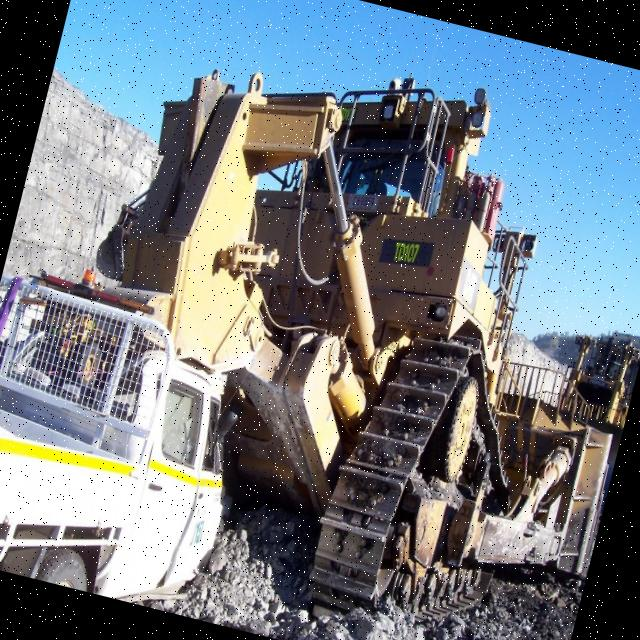Bulldozer: (32, 27, 640, 640), (530, 323, 640, 512)
